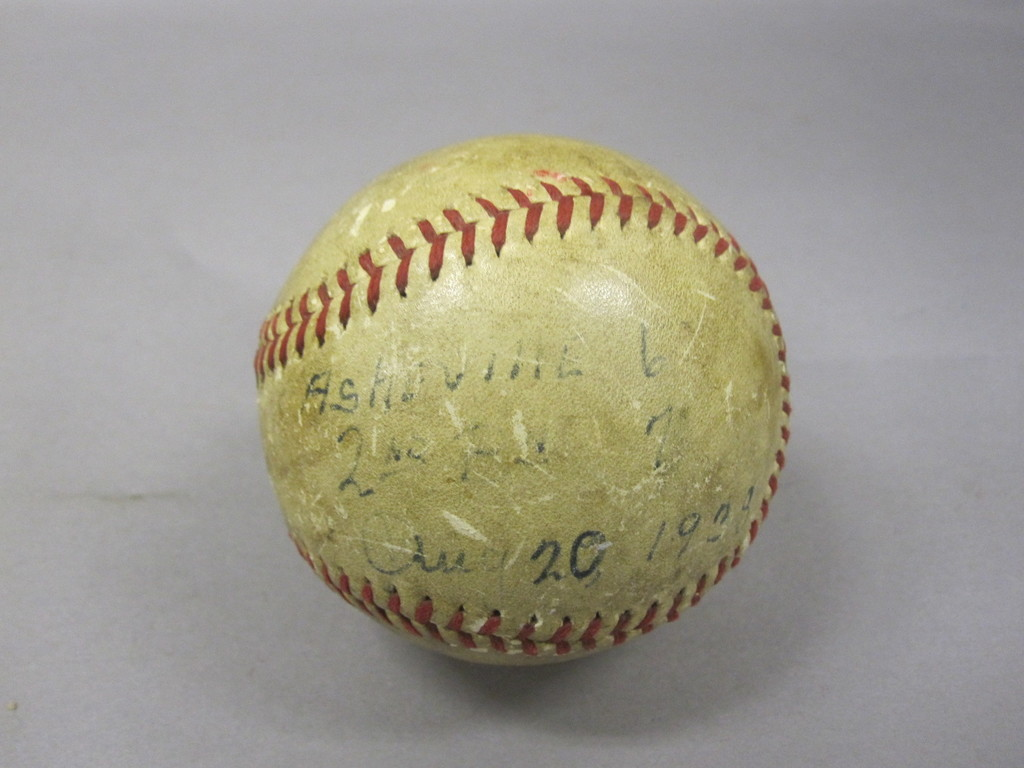Ball: (252, 130, 791, 664)
